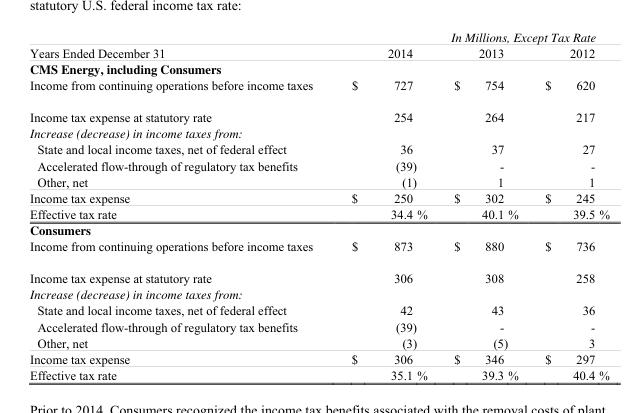table: (28, 28, 608, 381)
table column: (28, 28, 331, 381), (331, 28, 439, 381), (439, 28, 531, 381), (531, 28, 608, 381)
table column header: (28, 28, 608, 59)
table projected row header: (28, 59, 608, 77), (28, 220, 608, 238), (28, 124, 608, 141), (28, 285, 608, 302)
table row: (28, 100, 608, 124), (28, 261, 608, 285), (28, 77, 608, 100), (28, 238, 608, 261), (28, 59, 608, 77), (28, 220, 608, 238), (28, 124, 608, 141), (28, 285, 608, 302), (28, 28, 608, 44), (28, 141, 608, 157), (28, 157, 608, 173), (28, 173, 608, 189), (28, 189, 608, 205), (28, 302, 608, 318), (28, 318, 608, 334), (28, 334, 608, 350), (28, 350, 608, 366), (28, 44, 608, 59), (28, 205, 608, 220), (28, 366, 608, 381)
table spanning cell: (28, 28, 331, 59), (331, 28, 608, 44)
